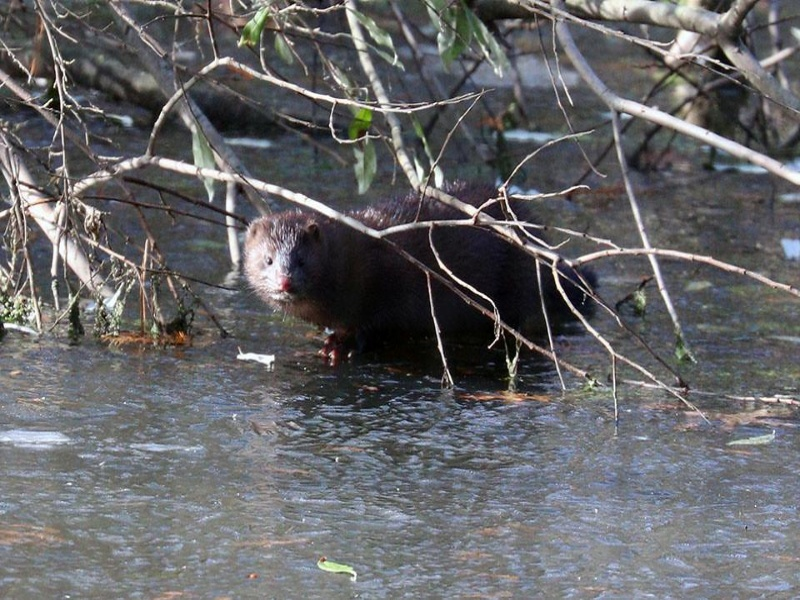minkish: (240, 190, 597, 370)
